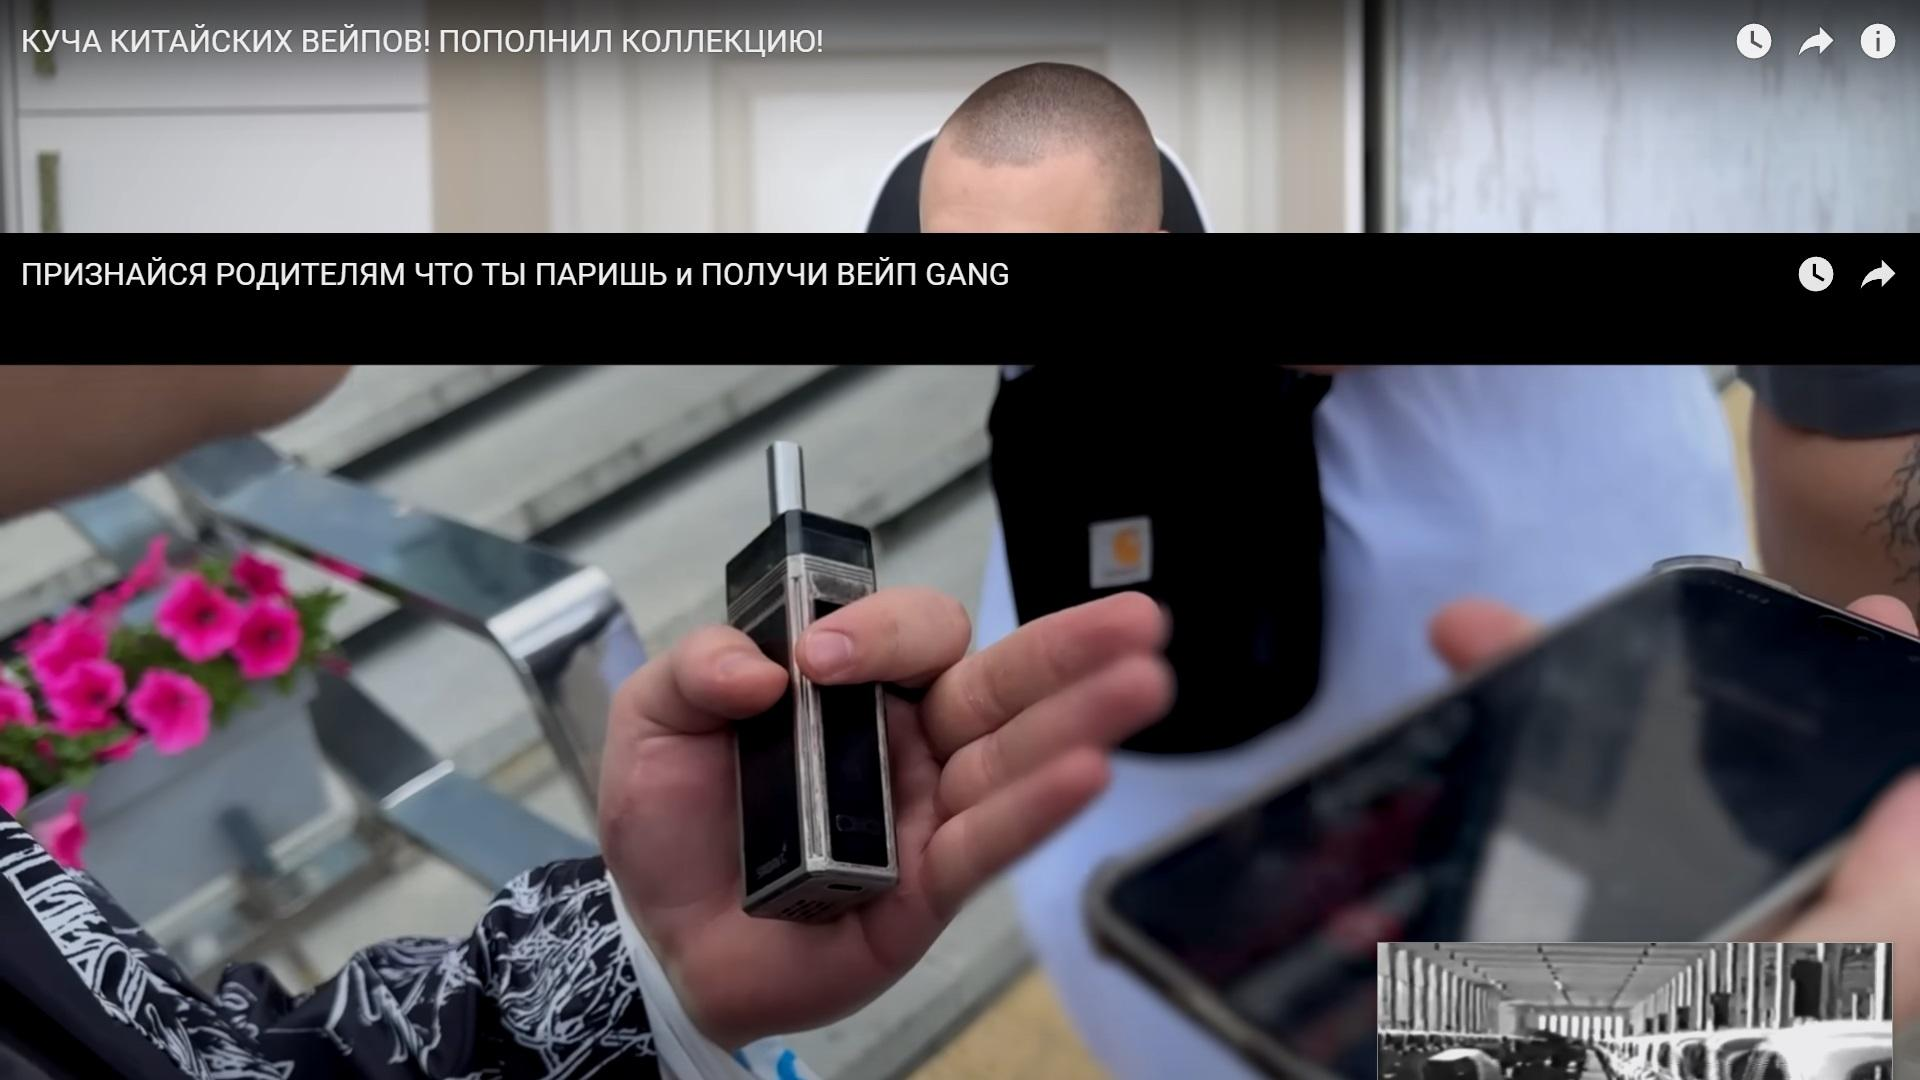Vape: (725, 442, 897, 920)
